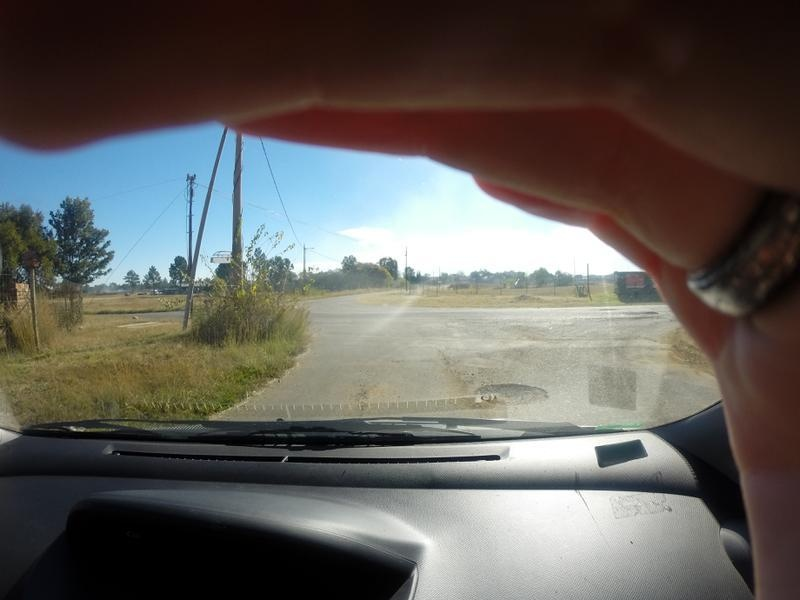pothole: (473, 375, 546, 403), (630, 309, 658, 312), (598, 306, 623, 309)
